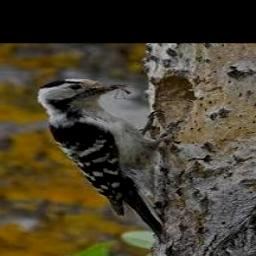Woodpecker: (37, 78, 165, 238)
